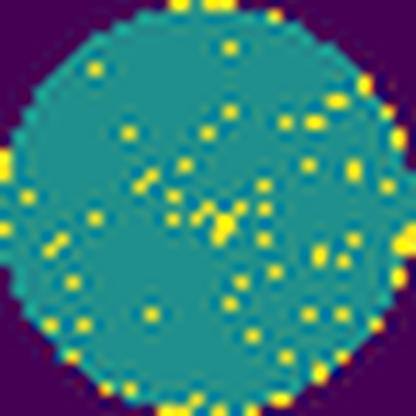Center: (179, 192, 248, 249)
